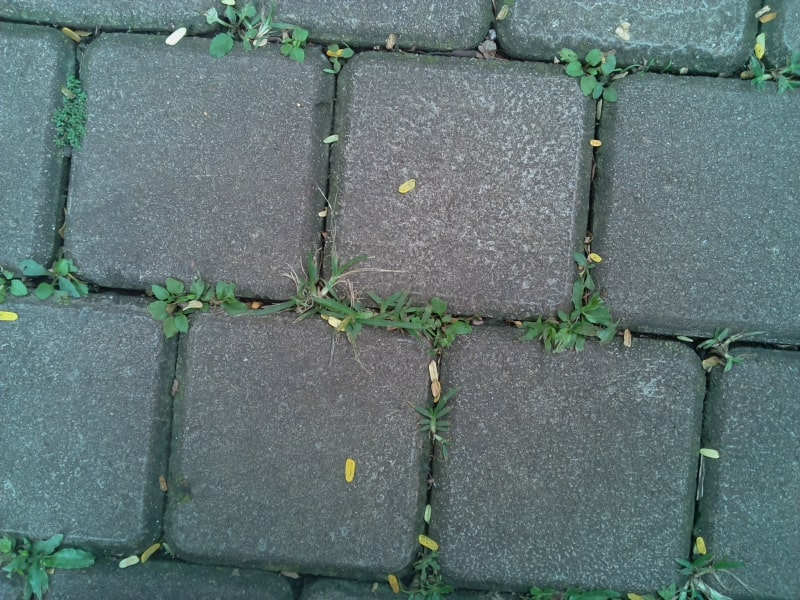Weed: (513, 249, 621, 359), (1, 532, 94, 594), (149, 277, 242, 338), (375, 298, 475, 353), (315, 289, 415, 342), (281, 259, 355, 328), (557, 48, 626, 104), (49, 73, 88, 151), (750, 53, 800, 109), (202, 6, 260, 54), (22, 257, 88, 299), (674, 547, 726, 600), (413, 388, 455, 447), (412, 551, 450, 600), (700, 326, 741, 366), (529, 584, 621, 600), (1, 266, 31, 311), (279, 28, 313, 66), (326, 42, 354, 74), (256, 16, 279, 45)
